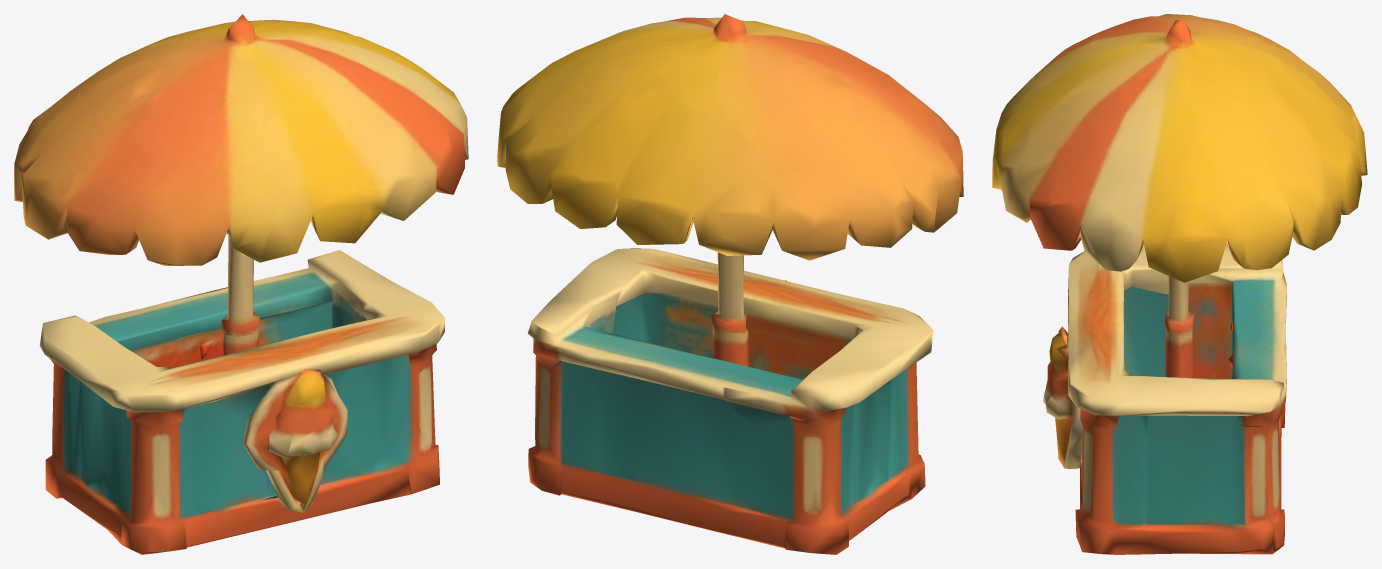
File: city-icecream-kiosk.glb
3 renders of one model, left to right at view 1: azimuth 30°, elevation 25°; view 2: azimuth 150°, elevation 25°; view 3: azimuth 270°, elevation 25°, orthographic. The views are drawn at different scales.
Visible parts, largest first — view 1: city-icecream-kiosk; view 2: city-icecream-kiosk; view 3: city-icecream-kiosk.
Part boxes in pixels (box(x1,y1,x2,y2)): city-icecream-kiosk: box(14, 14, 468, 554); city-icecream-kiosk: box(497, 14, 963, 554); city-icecream-kiosk: box(992, 14, 1367, 554).
Bounding box in the file's own units: 2.8 × 3 × 2.2.
Materials: 1 (1 with a texture image).
